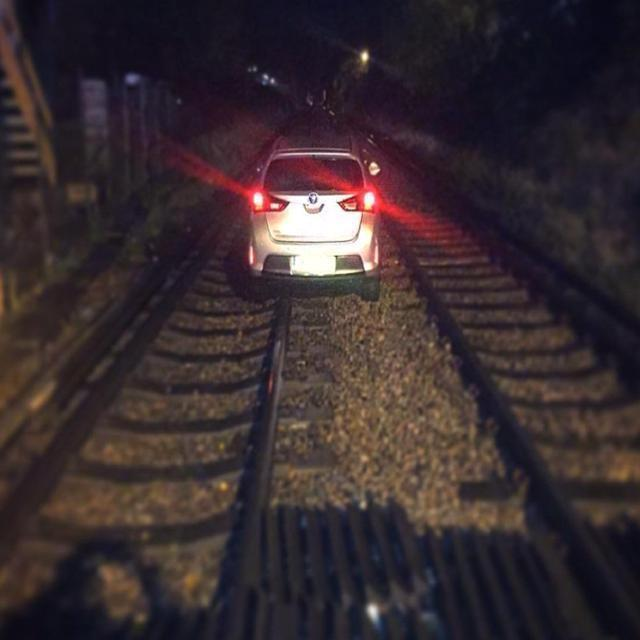rail: (378, 207, 640, 640), (1, 216, 242, 565), (345, 122, 640, 395), (218, 298, 293, 640)
